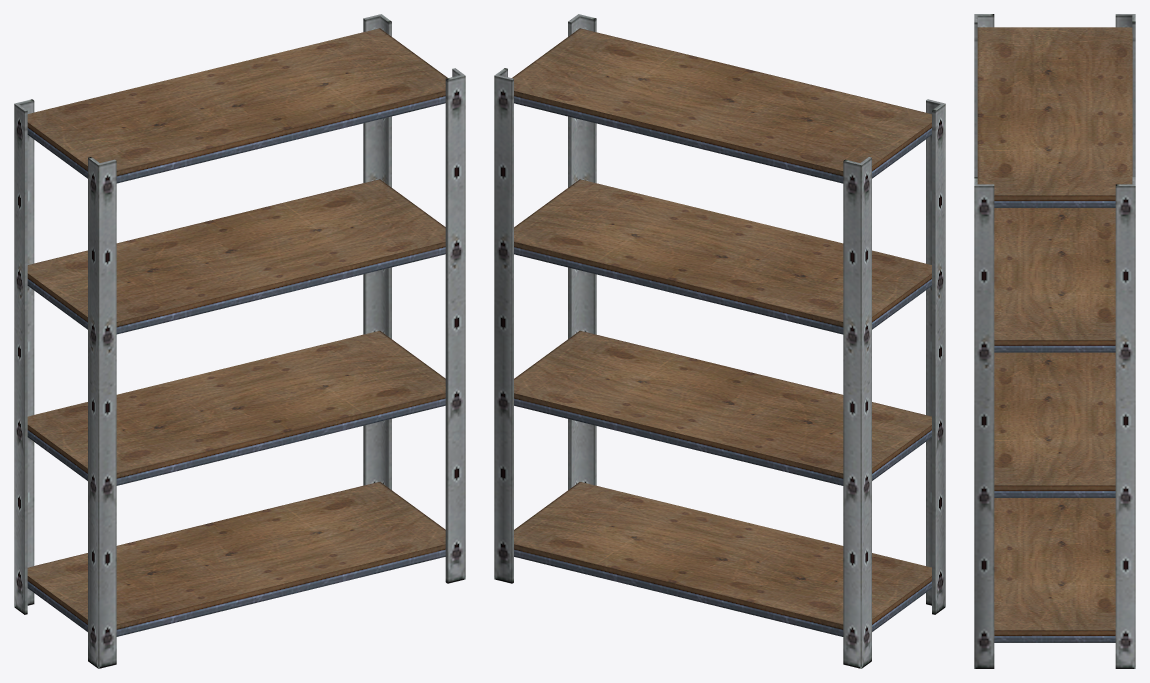
The model's file is storage_shelving.fbx.
The picture shows the model from 3 angles, left to right: view 1: azimuth 30°, elevation 25°; view 2: azimuth 150°, elevation 25°; view 3: azimuth 270°, elevation 25°; orthographic projection. The views are drawn at different scales.
Parts seen in each view (by area): view 1: Box05; view 2: Box05; view 3: Box05.
Boxes of the visible parts, left/top/right/bottom form: Box05: left=14, top=14, right=465, bottom=668; Box05: left=494, top=14, right=945, bottom=668; Box05: left=974, top=14, right=1135, bottom=668.
Bounding box in the file's own units: 44.18 × 57.9 × 17.56.
